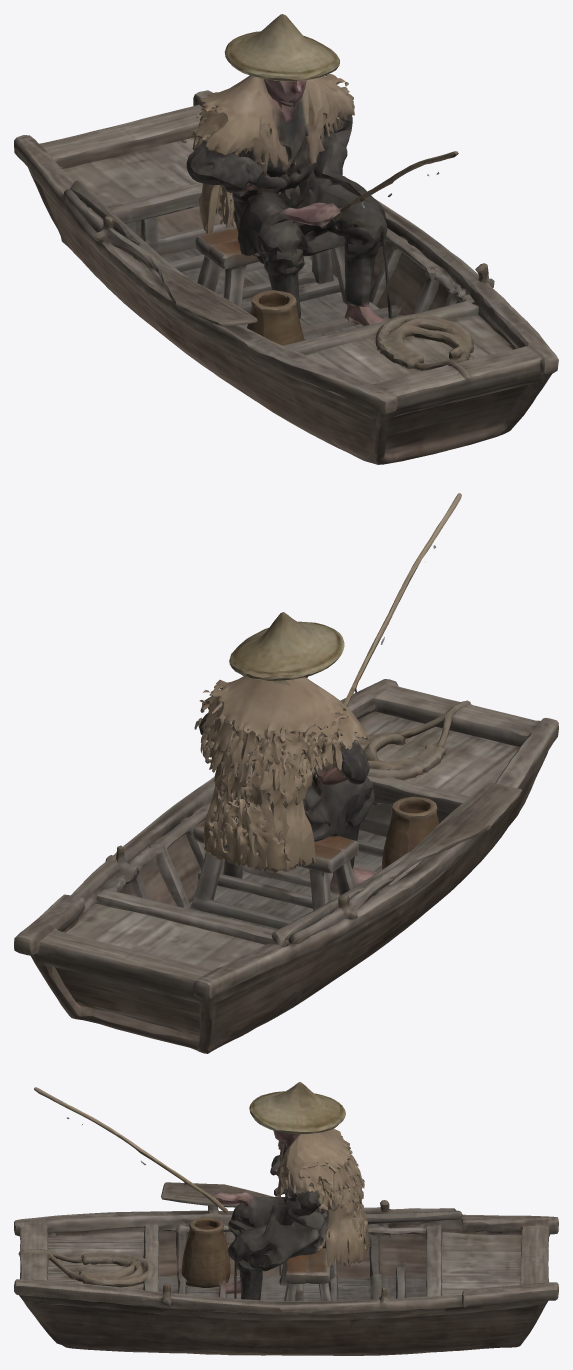
Rendered from snow_fisher_back.glb.
3 renders of one model, top to bottom at view 1: azimuth 30°, elevation 25°; view 2: azimuth 150°, elevation 25°; view 3: azimuth 270°, elevation 25°, orthographic. The views are drawn at different scales.
Visible parts, largest first — view 1: geometry_0; view 2: geometry_0; view 3: geometry_0.
Boxes of the visible parts, x1=… form: geometry_0: x1=14, y1=14, x2=558, y2=464; geometry_0: x1=14, y1=493, x2=558, y2=1053; geometry_0: x1=14, y1=1082, x2=558, y2=1355.
Size of the model in its own units: 1.8 by 1.98 by 3.97.
1 material, 1 textured.
